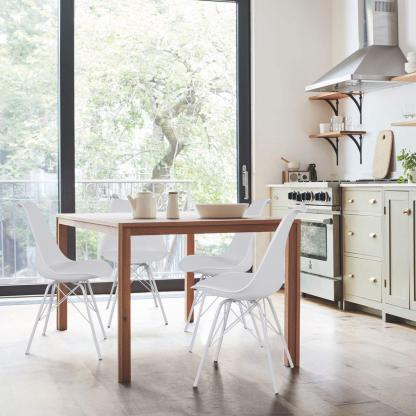chair: (187, 210, 301, 404), (17, 194, 104, 371), (183, 203, 276, 334), (104, 196, 166, 336)
door: (71, 0, 250, 212)
table: (52, 208, 302, 386)
